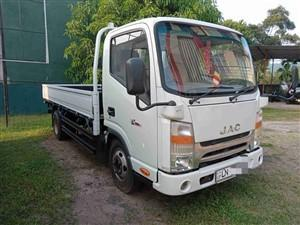truck: (42, 15, 265, 196)
